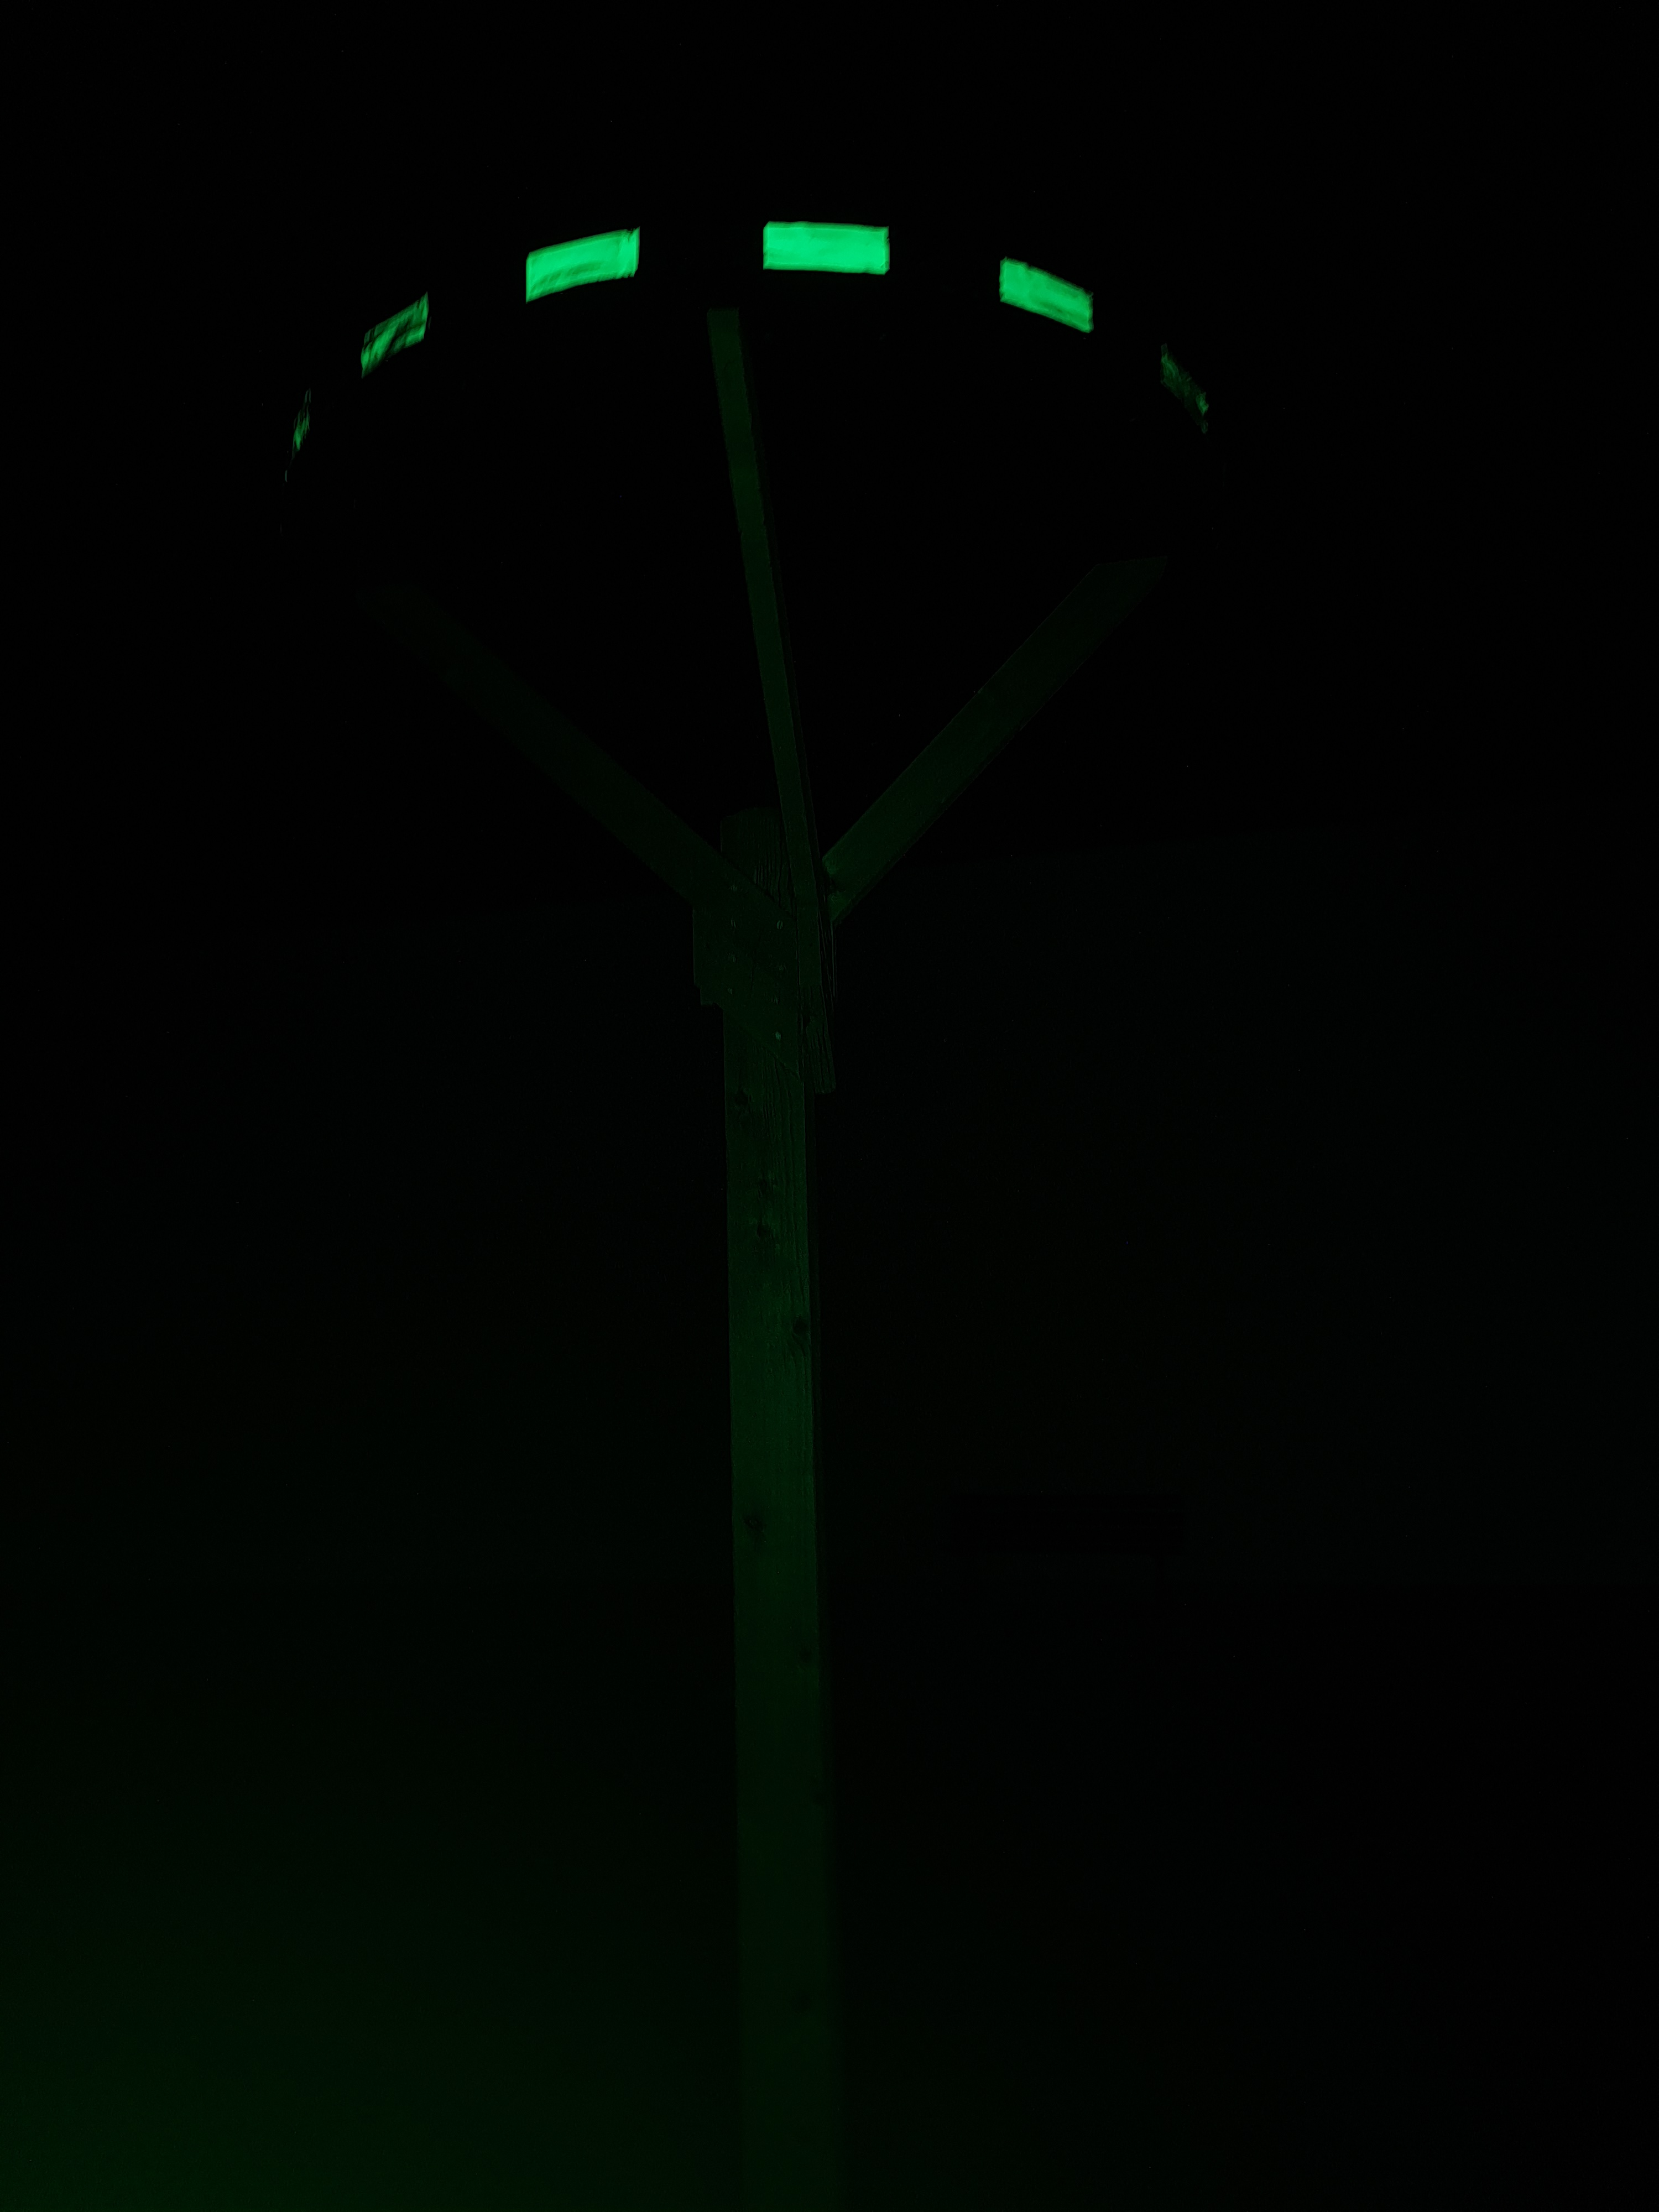hoop: (289, 218, 1213, 453)
